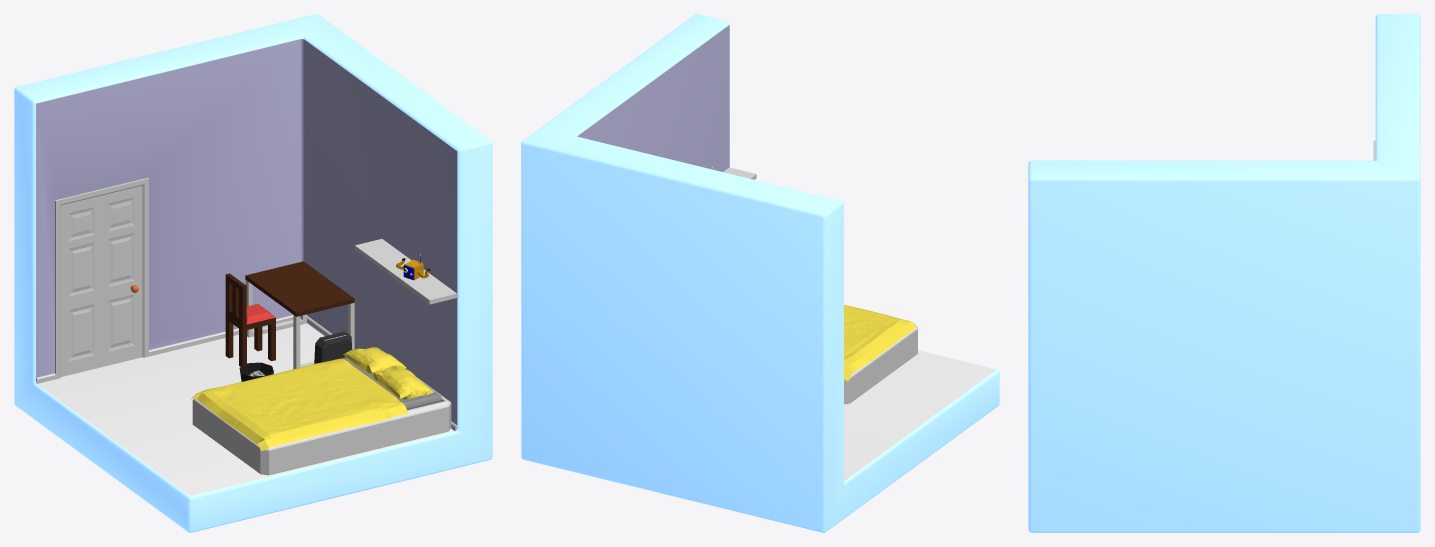
Rendered from CozyRoom_4.glb.
3 renders of one model, left to right at view 1: azimuth 30°, elevation 25°; view 2: azimuth 150°, elevation 25°; view 3: azimuth 270°, elevation 25°, orthographic. The views are drawn at different scales.
Parts seen in each view (by area): view 1: Cube.024, Cube.004, Plane.014, Cube.002, Cube.015, Cube.023, Cube.008, Cube.007, Plane.016, Cube.005, Plane.015, Cube.009 (+2 smaller); view 2: Cube.024, Plane.014, Cube.002; view 3: Cube.024.
Part boxes in pixels (bbox=[...]): Cube.024: bbox=[14, 14, 492, 532]; Cube.004: bbox=[61, 185, 142, 376]; Plane.014: bbox=[191, 358, 408, 451]; Cube.002: bbox=[192, 357, 451, 475]; Cube.015: bbox=[245, 261, 354, 369]; Cube.023: bbox=[225, 273, 275, 366]; Cube.008: bbox=[354, 239, 456, 304]; Cube.007: bbox=[142, 178, 148, 357]; Plane.016: bbox=[372, 369, 433, 399]; Cube.005: bbox=[55, 199, 60, 379]; Plane.015: bbox=[343, 347, 406, 374]; Cube.009: bbox=[314, 331, 352, 363]; Cube.024: bbox=[521, 14, 999, 532]; Plane.014: bbox=[844, 305, 918, 381]; Cube.002: bbox=[844, 327, 917, 404]; Cube.024: bbox=[1028, 14, 1420, 532].
Size of the model in its own units: 2.26 by 2.26 by 2.26.
